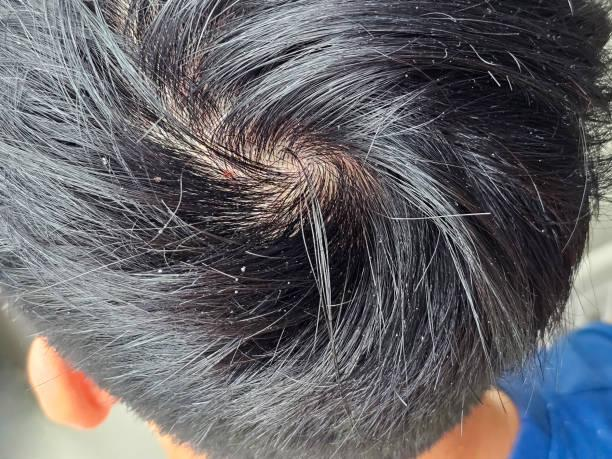dandruff: (174, 57, 219, 97), (144, 158, 165, 195), (229, 258, 260, 280), (278, 271, 295, 299), (396, 62, 417, 84), (146, 265, 172, 278)
